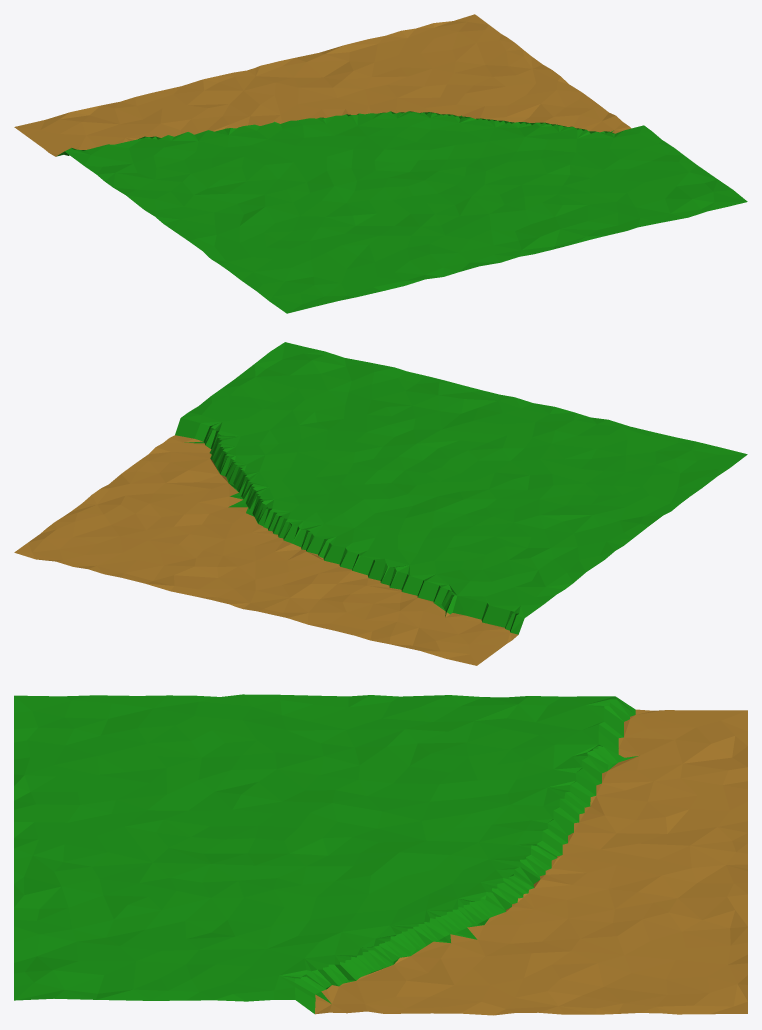
3 views of the same model, one above another, from view 1: azimuth 30°, elevation 25°; view 2: azimuth 150°, elevation 25°; view 3: azimuth 270°, elevation 25° (orthographic). The views are drawn at different scales.
Visible parts, largest first — view 1: Plane; view 2: Plane; view 3: Plane.
Part boxes in pixels (x1,y1,x2,y2): Plane: [14, 14, 747, 313]; Plane: [14, 342, 747, 665]; Plane: [14, 694, 747, 1015].
Size of the model in its own units: 6628 by 199 by 6739.
